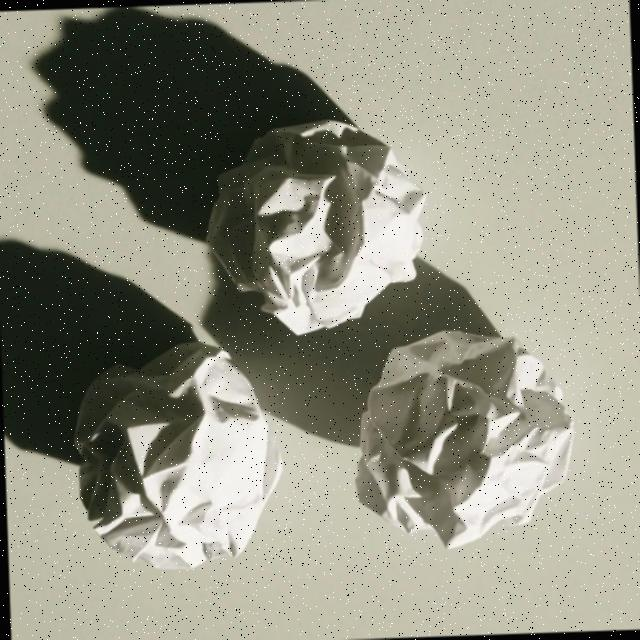paper: (348, 318, 588, 556), (62, 334, 292, 580), (206, 109, 435, 328)
